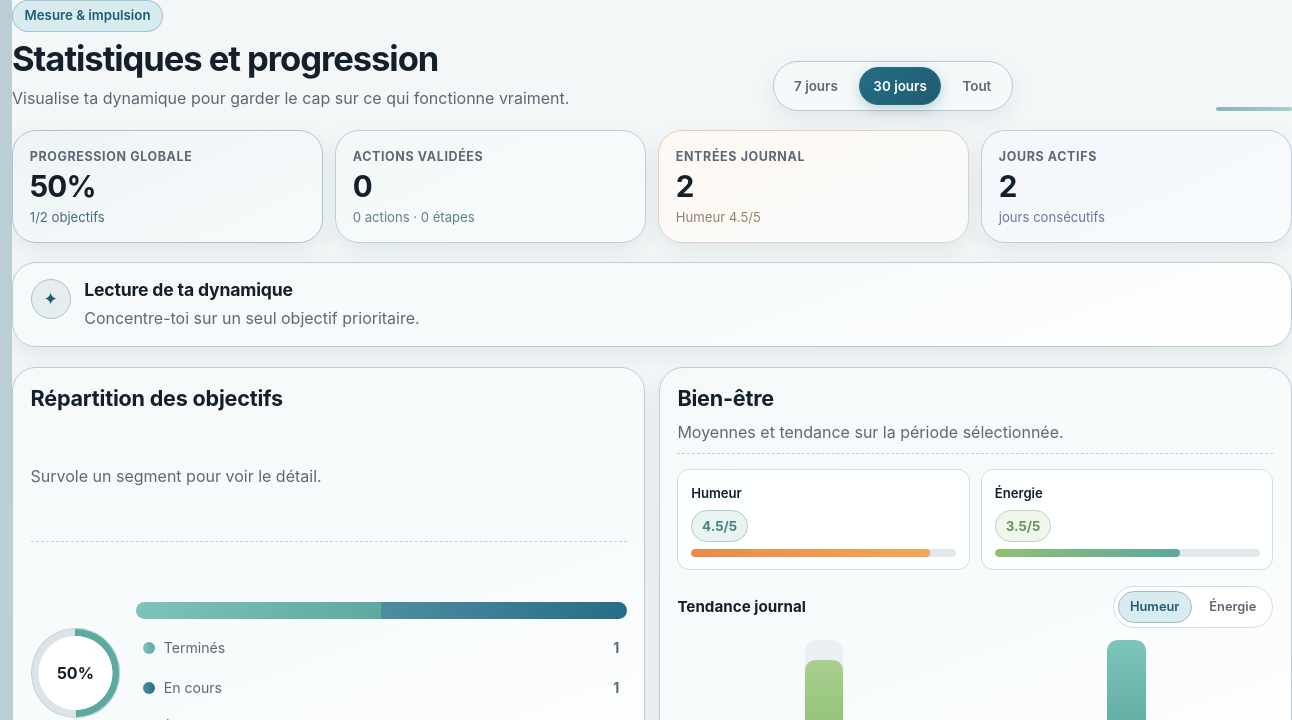
Test: Stats page › updates journal kpi when period changes
Expected: the text "Entrées journal" is shown, [676,149,805,164]
Expected: the 1st text "2" is shown, [676,168,694,204]
Click the button "Tout": point(977, 86) [948,67,1006,105]
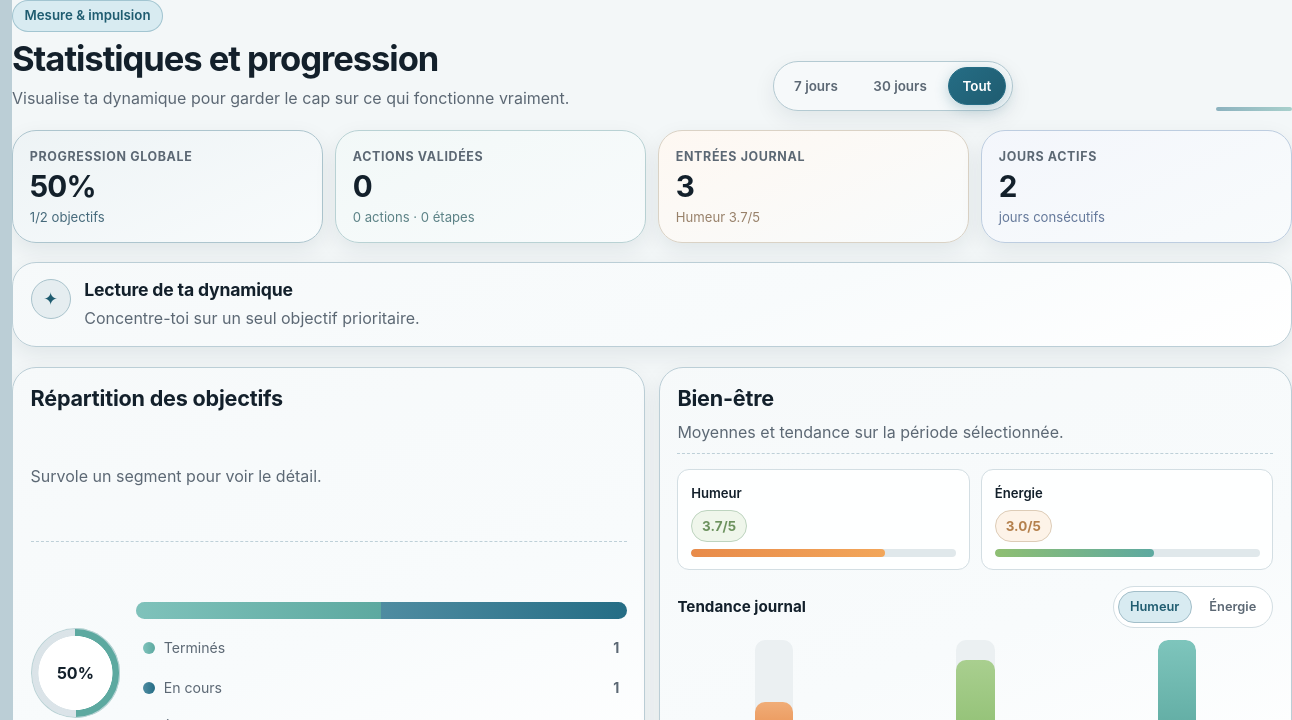
Expected: the text "3" is shown, [676,168,694,204]
